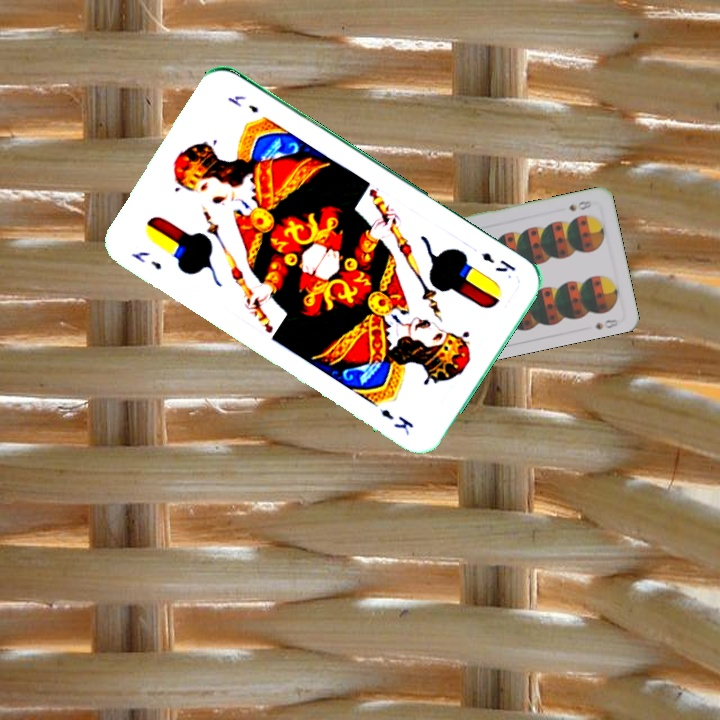EK: (478, 248, 519, 275), (128, 247, 165, 273)
S8: (565, 196, 594, 214)
